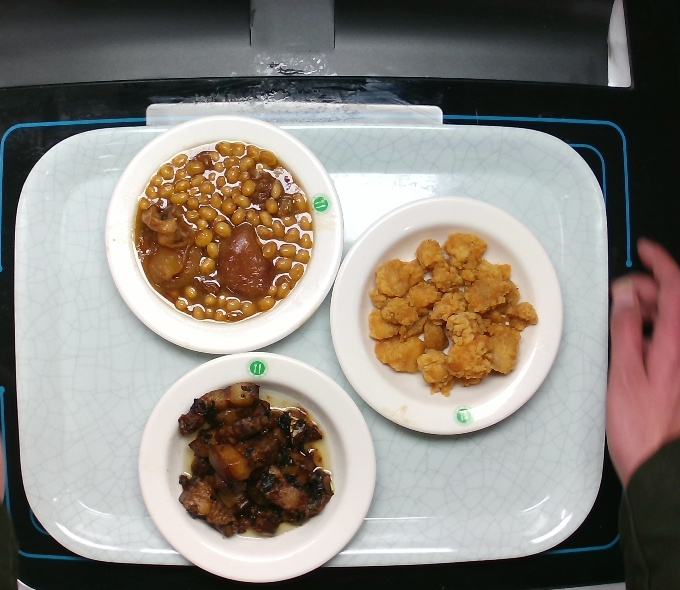wcq-GanCaiRou: (171, 378, 340, 542)
wcq-HuangDouZhuJiao: (128, 136, 317, 329)
wcq-JiMiHua: (363, 225, 543, 399)
